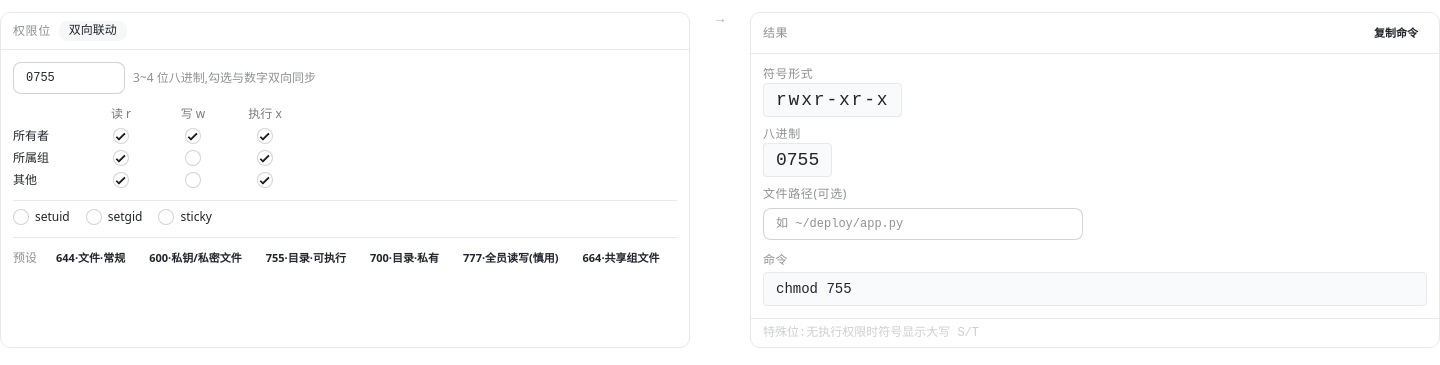
Test: ChmodCalc 权限互算 › 勾选与数字双向联动:取消 owner write → 555
Click the checkbox named "owner-write" at (193, 136), box [185,128,201,144]
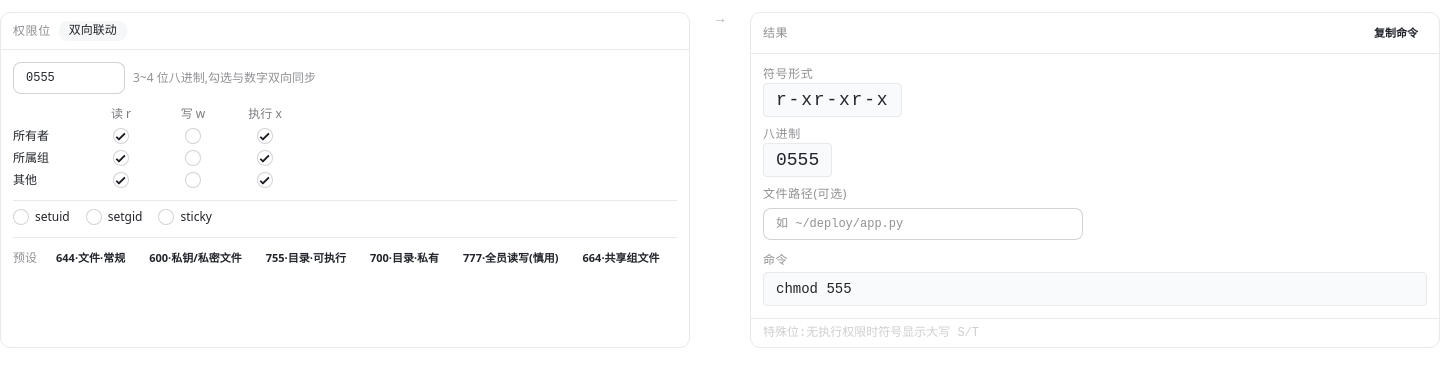
Check: the text "r-xr-xr-x" is shown, box [763,83,902,117]
Check: the text "chmod 555" is shown, box [763,272,1427,306]
Check: the field named "八进制" holds "0555", box [13,62,125,94]
